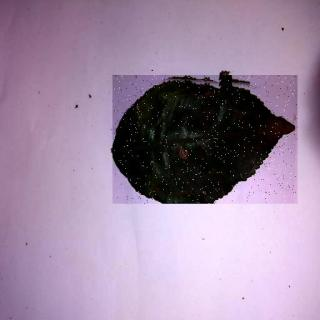Anthracnose: (114, 76, 299, 205)
